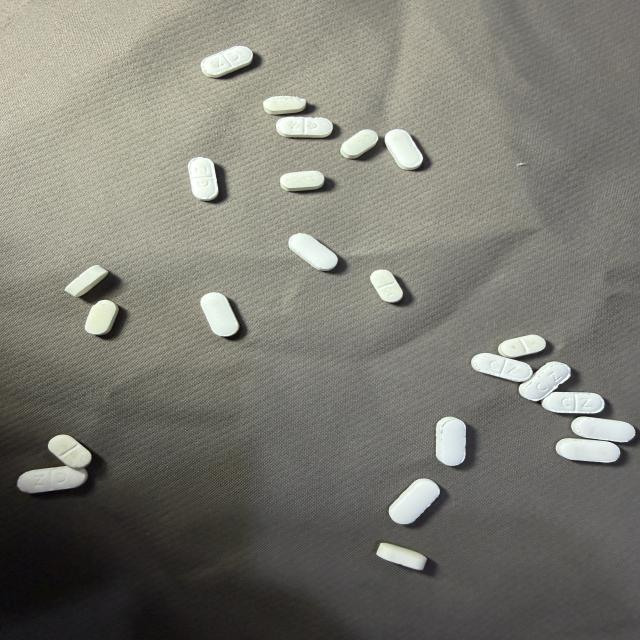pill: (389, 479, 440, 524), (519, 362, 570, 401), (17, 467, 88, 493), (289, 234, 337, 270), (472, 353, 532, 381), (201, 293, 239, 337), (201, 46, 252, 77), (572, 417, 635, 442), (556, 438, 620, 462), (385, 130, 423, 170), (436, 417, 466, 466), (49, 435, 91, 468), (377, 543, 427, 570), (542, 392, 604, 413), (65, 266, 108, 296), (188, 157, 218, 200), (85, 300, 118, 335), (277, 117, 332, 137), (370, 270, 403, 302), (498, 335, 546, 357), (341, 130, 378, 158), (280, 170, 324, 192), (263, 96, 306, 114)
